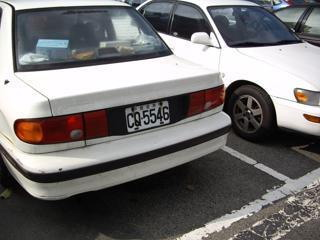plate: (122, 102, 171, 129)
